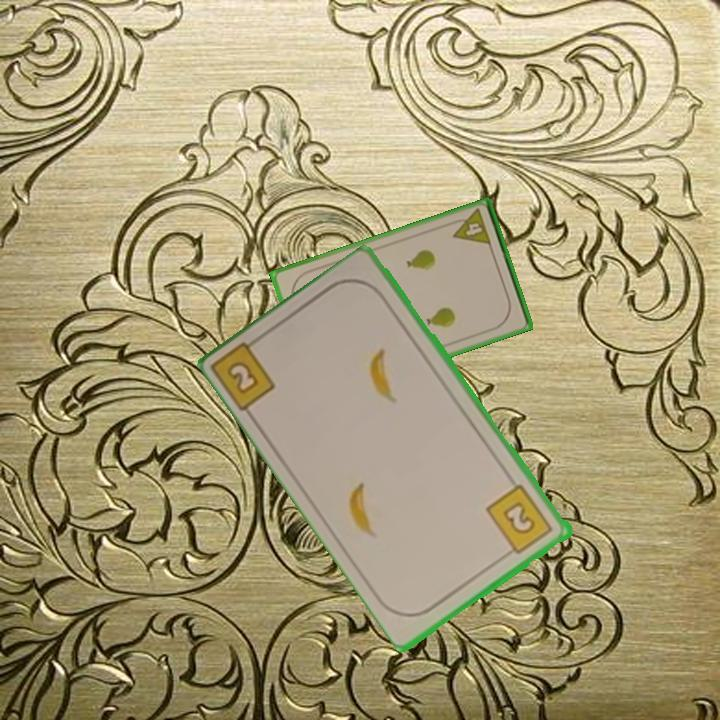2b: (483, 481, 556, 560), (211, 331, 279, 415)
4p: (446, 205, 494, 249)
